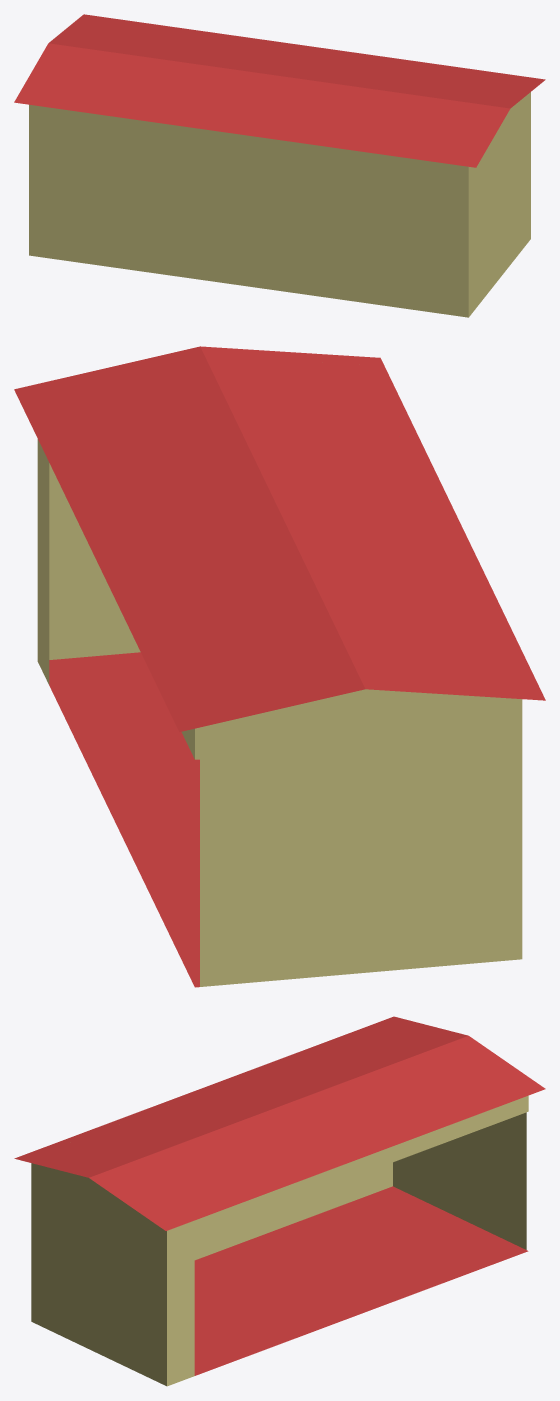
The picture shows the model from 3 angles, top to bottom: view 1: azimuth 30°, elevation 25°; view 2: azimuth 150°, elevation 25°; view 3: azimuth 270°, elevation 25°; orthographic projection. The views are drawn at different scales.
Visible parts, largest first — view 1: group_5, group_3, group_4; view 2: group_3, group_5, group_6, group_4; view 3: group_3, group_5, group_6, group_4.
Boxes of the visible parts, box(x1,y1,x2,y2) form: group_5: box(29, 92, 530, 317); group_3: box(14, 14, 545, 167); group_4: box(50, 42, 509, 167); group_3: box(14, 346, 545, 731); group_5: box(37, 439, 522, 986); group_6: box(49, 652, 199, 987); group_4: box(200, 346, 538, 689); group_3: box(19, 1016, 545, 1230); group_5: box(31, 1095, 528, 1386); group_6: box(194, 1186, 528, 1375); group_4: box(14, 1036, 468, 1177).
Bounding box in the file's own units: 31.2 × 32.66 × 12.13.
